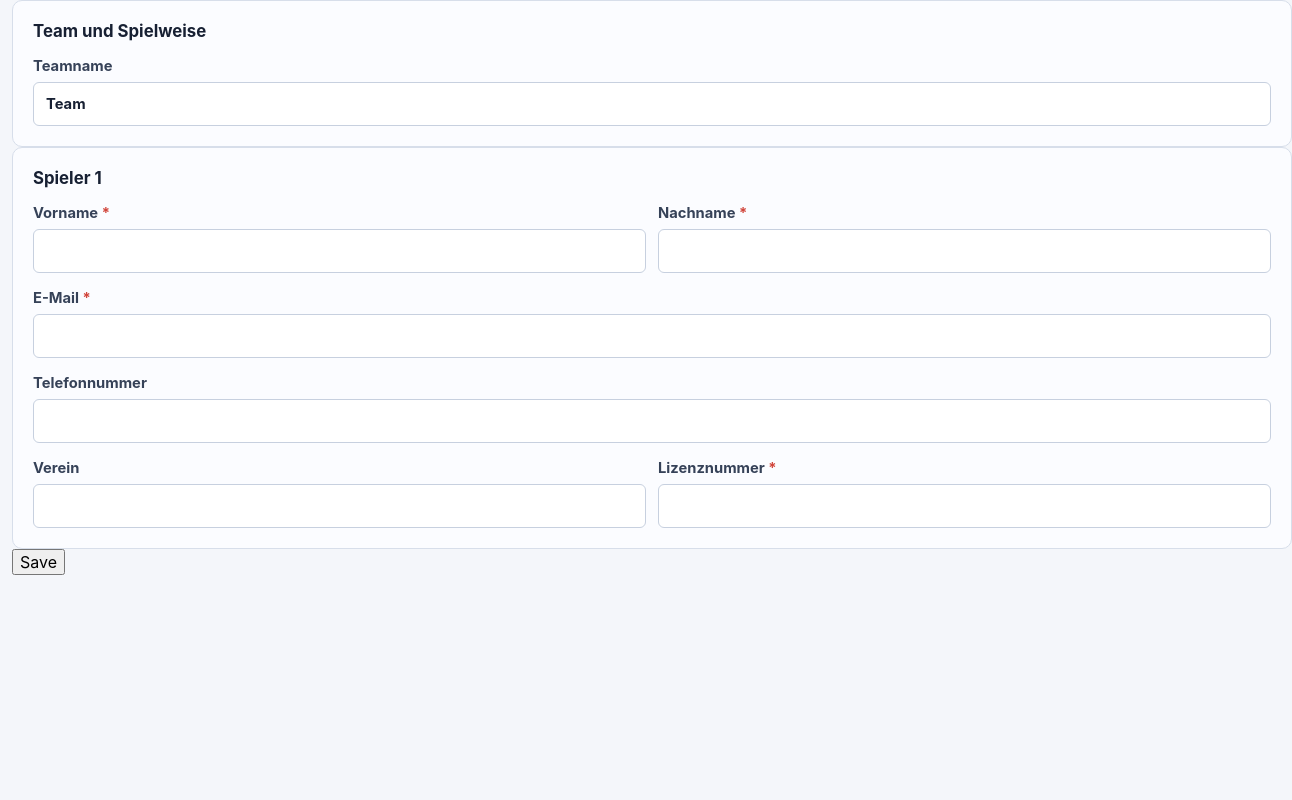
Scenario: Registration player selection › shows detail errors without automatic retries and preserves form input
In the dropdown labelled "Vorname *": (340, 251) [33, 229, 646, 273], type "Anna"
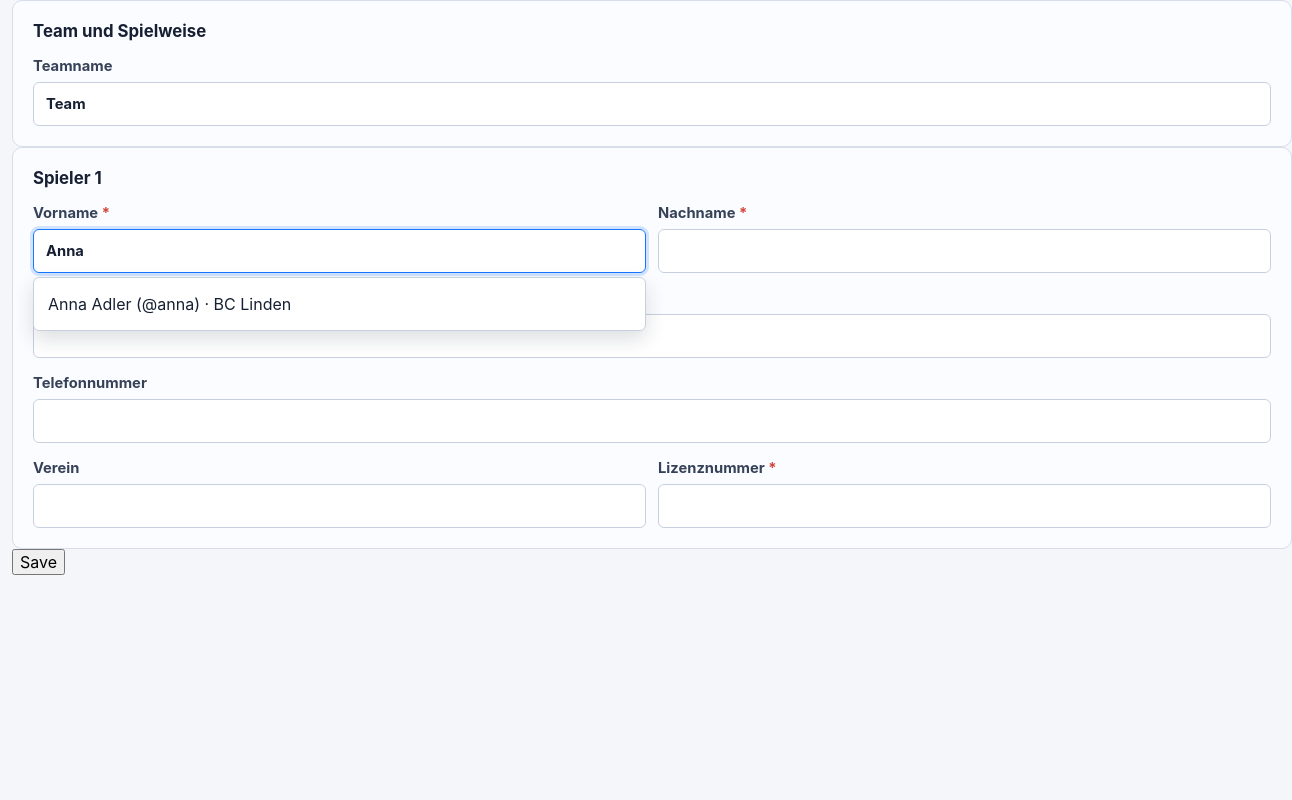
Click the option "Anna Adler (@anna) · BC Linden": (67, 304) [38, 282, 641, 326]
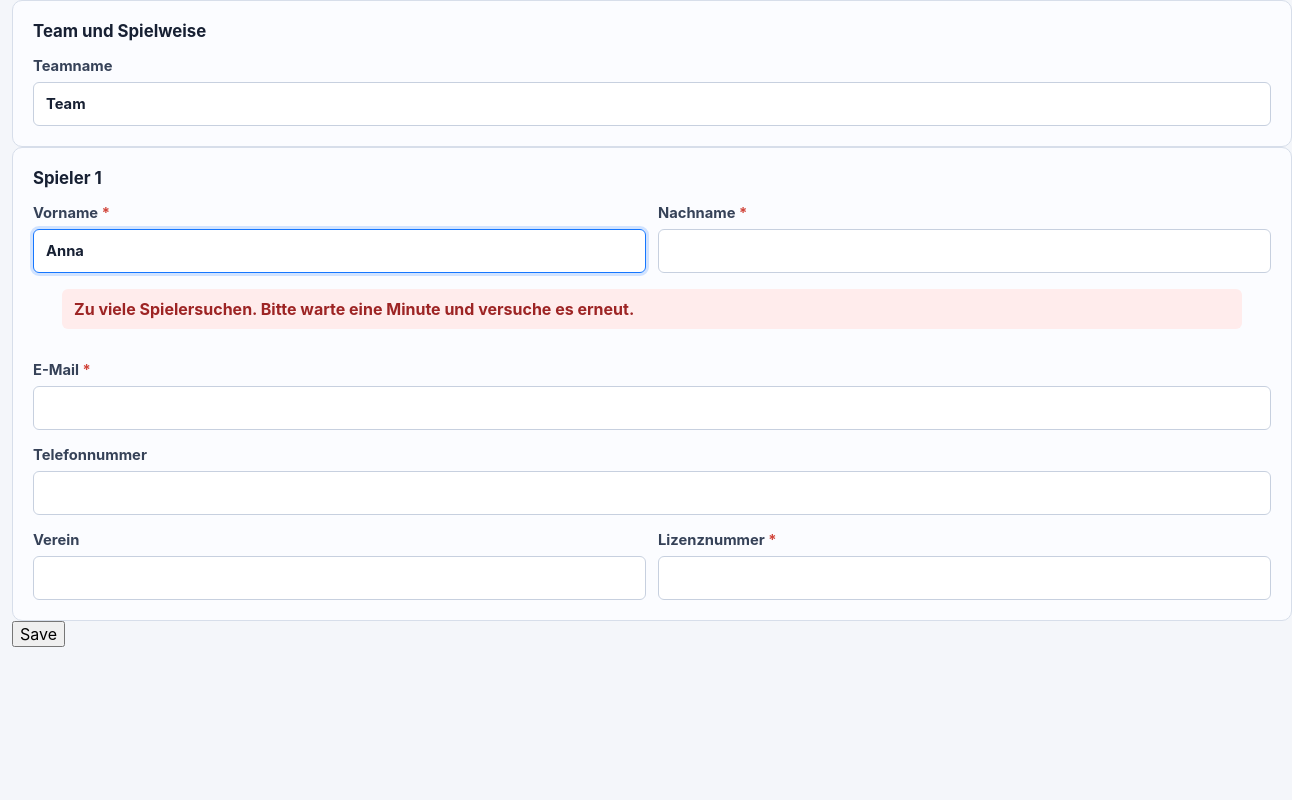
Expected: the field labelled "E-Mail *" is empty, [33, 386, 1271, 430]
Expected: the message "Zu viele Spielersuchen. Bitte warte eine Minute und versuche es erneut." is shown, [62, 289, 1242, 329]
